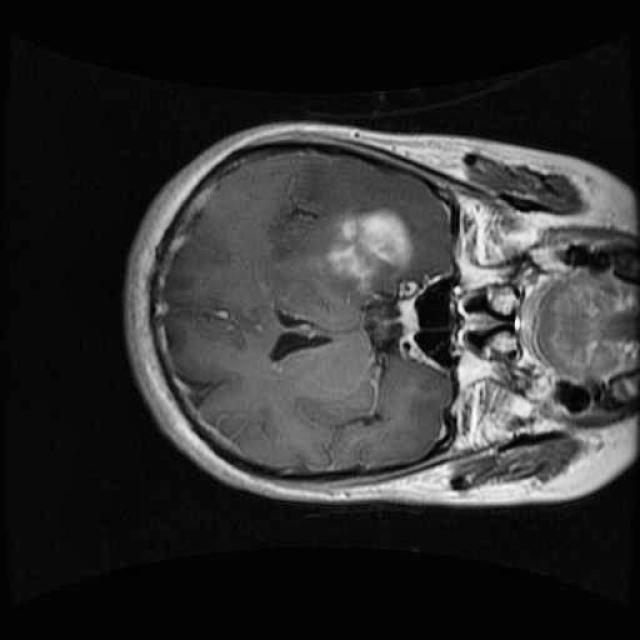Non-Tumor: (314, 194, 425, 321)
